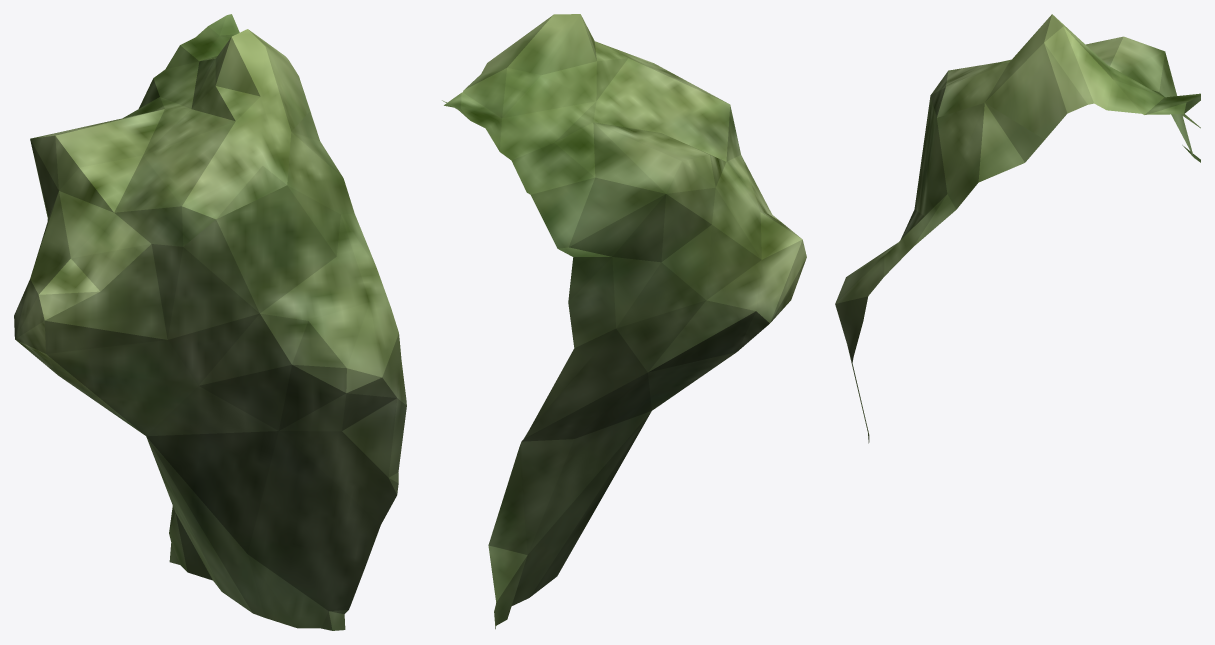
The picture shows the model from 3 angles, left to right: view 1: azimuth 30°, elevation 25°; view 2: azimuth 150°, elevation 25°; view 3: azimuth 270°, elevation 25°; orthographic projection. The views are drawn at different scales.
Size of the model in its own units: 1.08 by 2.11 by 1.21.
Materials: 1 (1 with a texture image).
